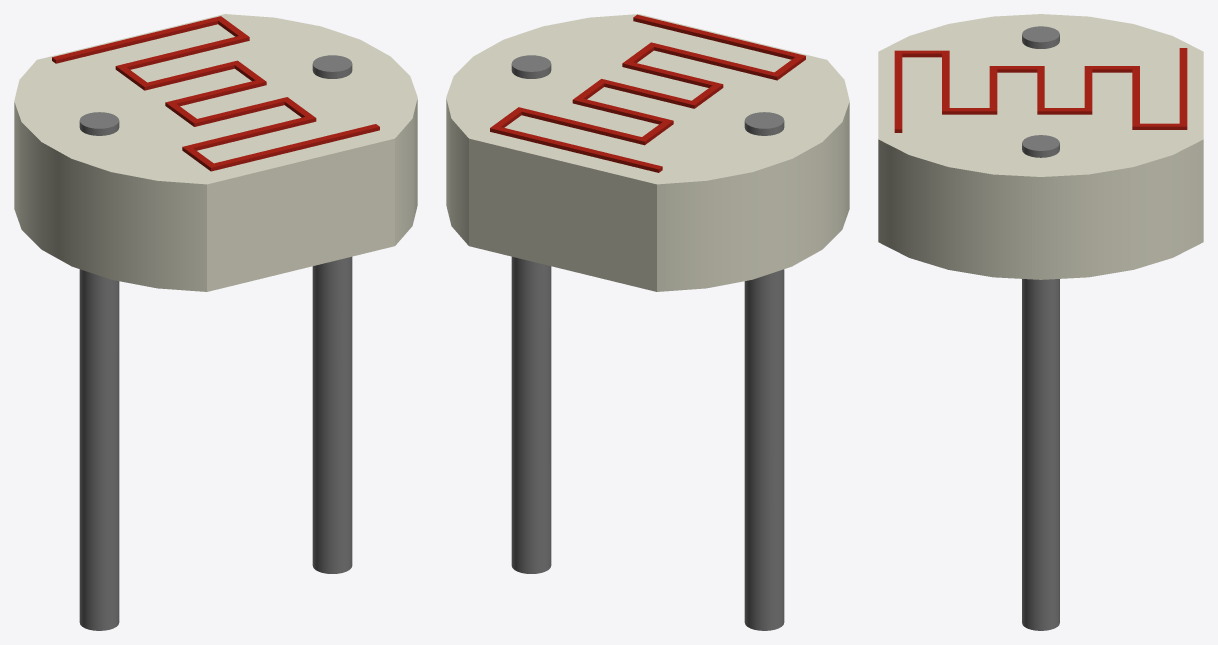
File: R_LDR_5.1x4.3mm_P3.4mm_Vertical.glb
3 views of the same model, side by side, from view 1: azimuth 30°, elevation 25°; view 2: azimuth 150°, elevation 25°; view 3: azimuth 270°, elevation 25° (orthographic). The views are drawn at different scales.
Visible parts, largest first — view 1: =>[0:1:1:3]; view 2: =>[0:1:1:3]; view 3: =>[0:1:1:3].
Part boxes in pixels (bbox=[...]): =>[0:1:1:3]: bbox=[14, 14, 417, 630]; =>[0:1:1:3]: bbox=[446, 14, 849, 630]; =>[0:1:1:3]: bbox=[878, 14, 1203, 630].
Size of the model in its own units: 0.0051 by 0.007 by 0.0043.
